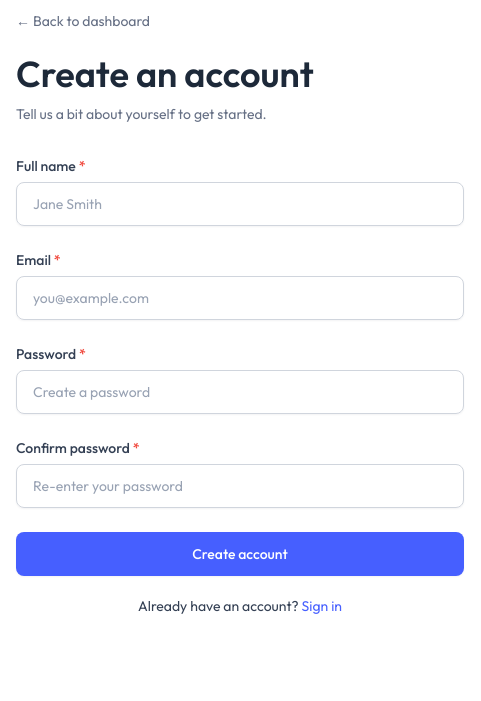
SignUpForm › surfaces API errors returned from registration
In the field labelled "Full name *": (240, 204) [16,182,464,226], type "Jane Doe"
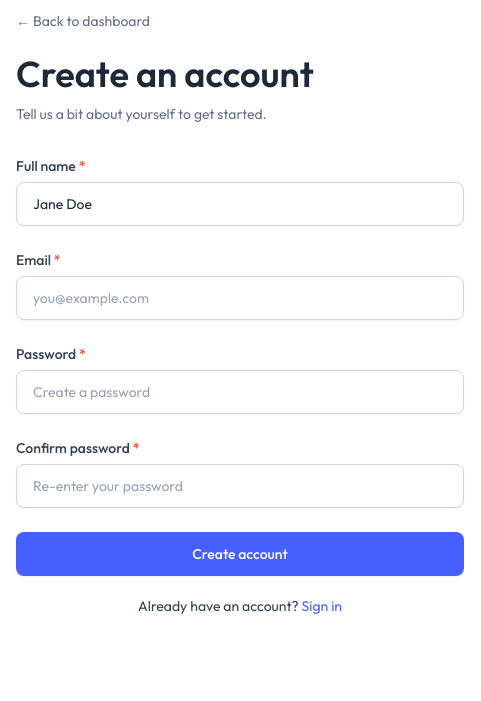
In the field labelled "Email *": (240, 298) [16,276,464,320], type "new@example.com"
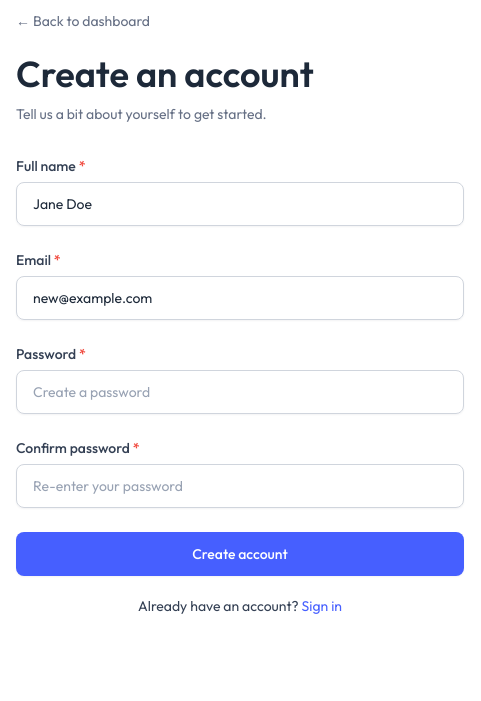
In the password field labelled "Password *": (240, 392) [16,370,464,414], type "password123"
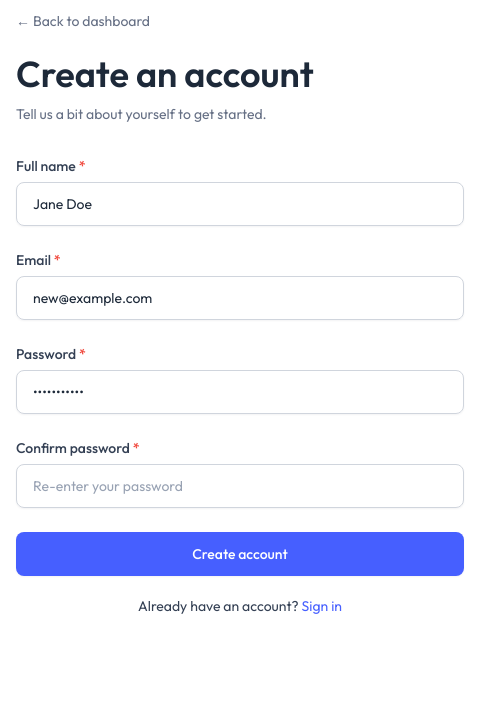
In the password field labelled "Confirm password *": (240, 486) [16,464,464,508], type "password123"
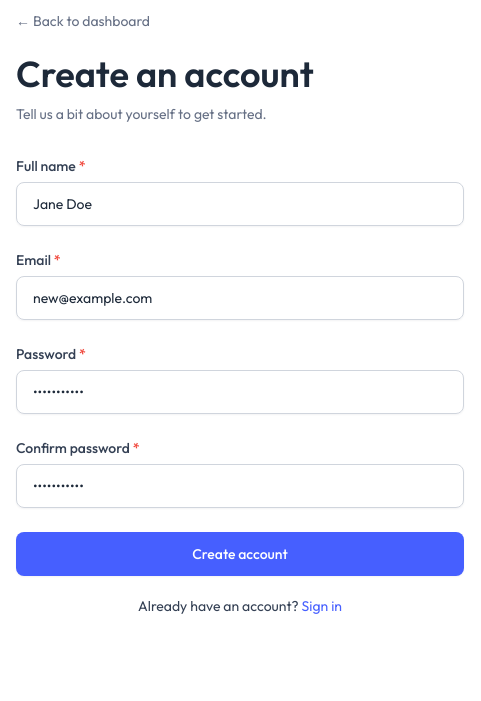
Click the button "Create account": click(240, 554) [16,532,464,576]
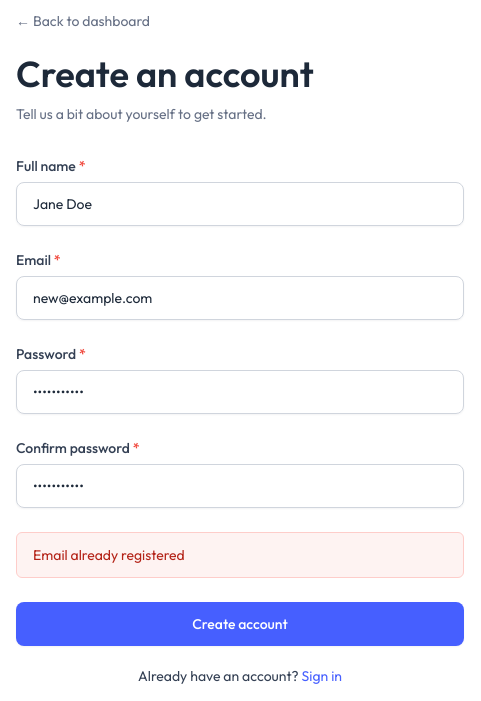
Result: the text "Email already registered" is shown at [16,532,464,578]
